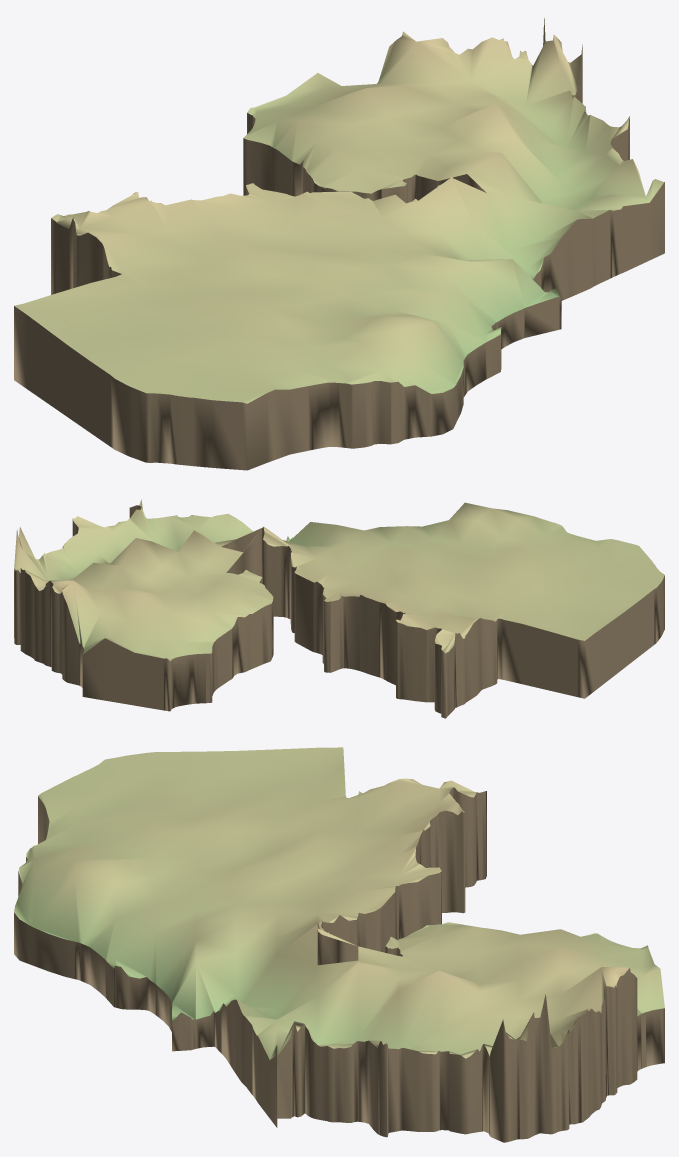
The model's file is ZMB.glb.
3 views of the same model, one above another, from view 1: azimuth 30°, elevation 25°; view 2: azimuth 150°, elevation 25°; view 3: azimuth 270°, elevation 25° (orthographic). The views are drawn at different scales.
Visible parts, largest first — view 1: ZMB; view 2: ZMB; view 3: ZMB.
Part boxes in pixels (x1,y1,x2,y2): ZMB: (14,18,664,470); ZMB: (14,499,664,718); ZMB: (14,747,664,1142).
Bounding box in the file's own units: 1.65 × 0.338 × 1.42.
